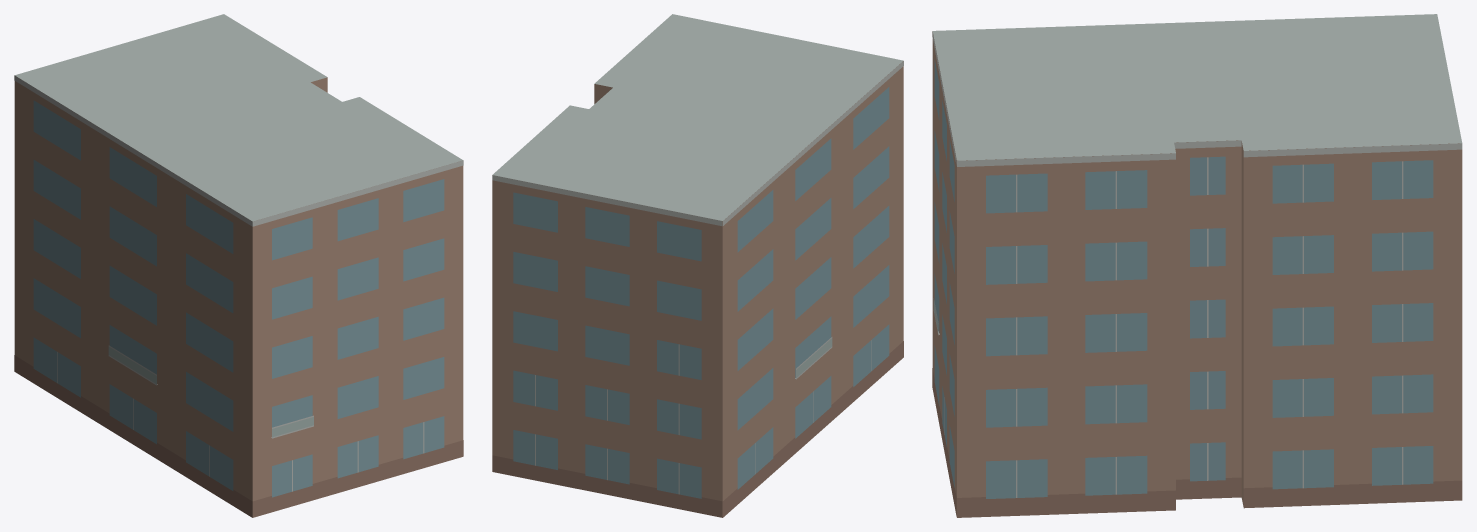
File: survey-upis-32735910.glb
The picture shows the model from 3 angles, left to right: view 1: azimuth 30°, elevation 25°; view 2: azimuth 150°, elevation 25°; view 3: azimuth 270°, elevation 25°; orthographic projection. The views are drawn at different scales.
Visible parts, largest first — view 1: survey-upis-32735910.tmp; view 2: survey-upis-32735910.tmp; view 3: survey-upis-32735910.tmp.
Boxes of the visible parts, left/top/right/bottom form: survey-upis-32735910.tmp: left=14, top=14, right=463, bottom=517; survey-upis-32735910.tmp: left=492, top=14, right=903, bottom=517; survey-upis-32735910.tmp: left=932, top=14, right=1462, bottom=517.
Size of the model in its own units: 12.13 by 13.75 by 18.49.
